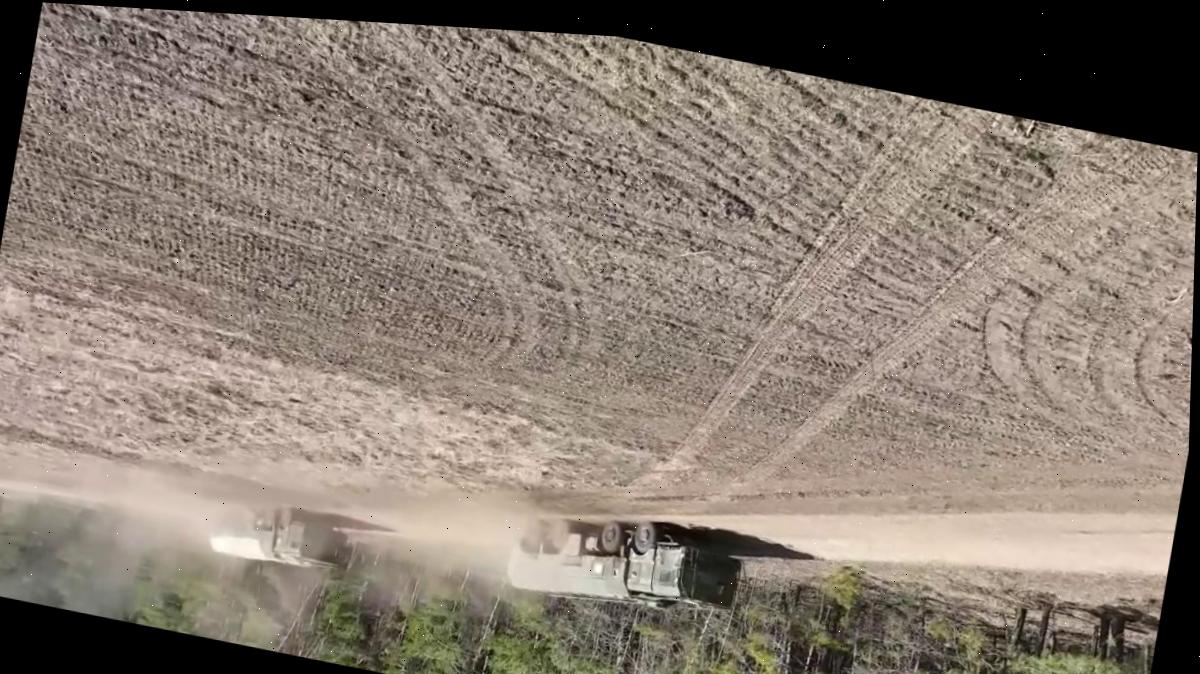rszo: (501, 494, 748, 633), (204, 491, 353, 579)
